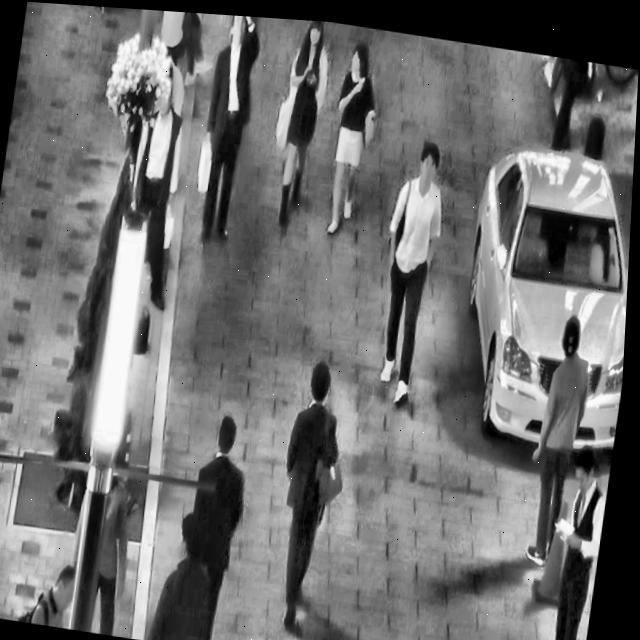light_vehicle: (443, 111, 636, 458)
